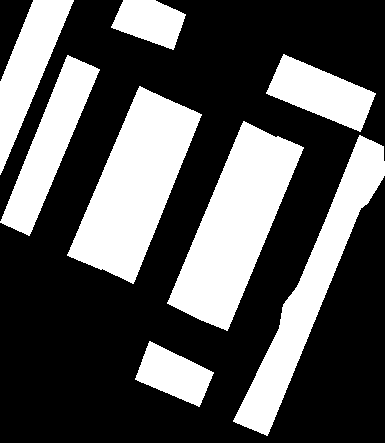parkingspot: (233, 135, 384, 435), (167, 121, 276, 319), (197, 136, 303, 330), (67, 86, 171, 269), (99, 99, 201, 283), (0, 55, 99, 235), (0, 0, 73, 174), (266, 54, 375, 131), (135, 341, 213, 406), (111, 0, 185, 49)
